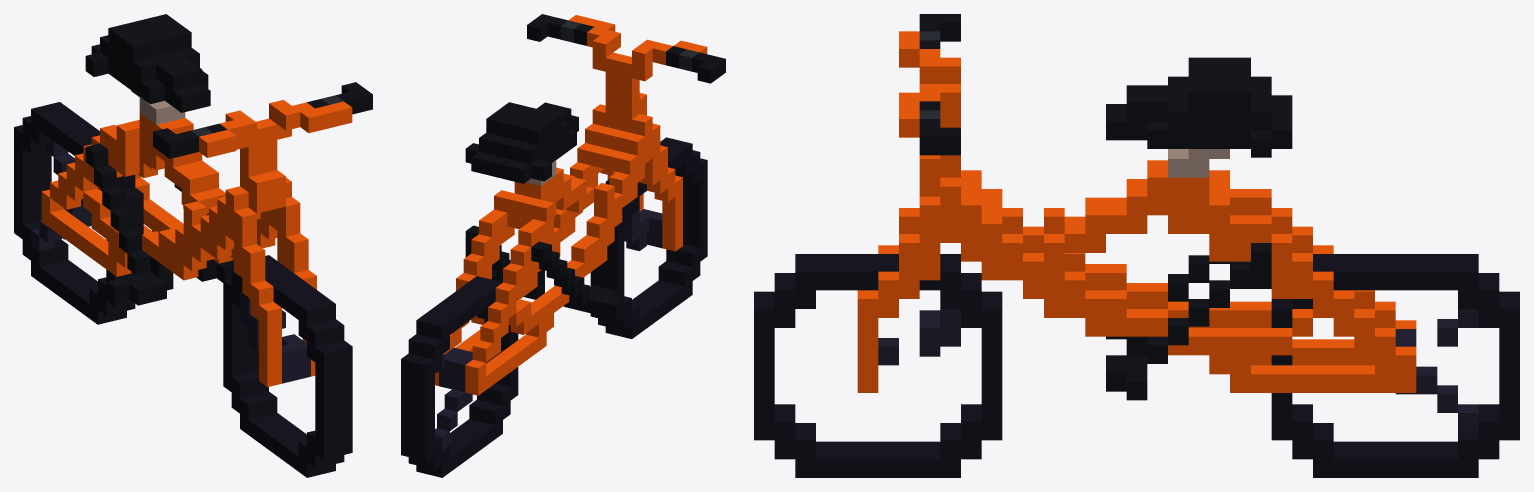
File: Bicycle.obj
3 renders of one model, left to right at view 1: azimuth 30°, elevation 25°; view 2: azimuth 150°, elevation 25°; view 3: azimuth 270°, elevation 25°, orthographic. The views are drawn at different scales.
Bounding box in the file's own units: 1.4 × 2.1 × 3.7.
Materials: 1 (1 with a texture image).
